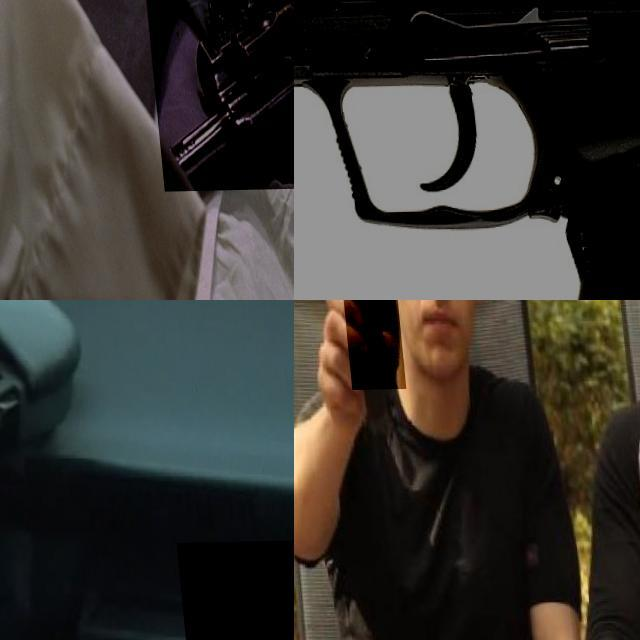-: (328, 300, 400, 414)
gun-knife-thesis - v11 Yolov5 augmented: (294, 0, 640, 300), (126, 0, 294, 192), (170, 540, 294, 640)
